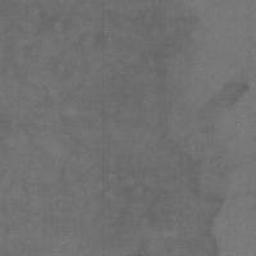Water spot: (0, 0, 228, 256), (200, 82, 250, 151)
